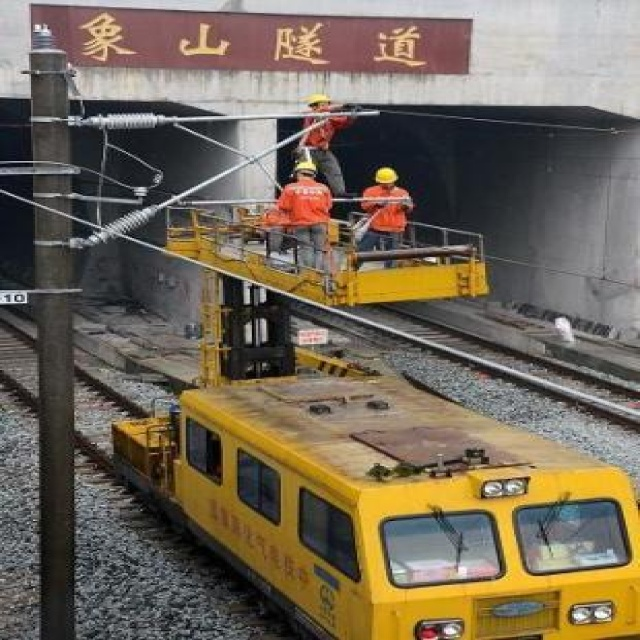Helmet: (368, 159, 405, 195)
Reflective vest: (280, 176, 331, 233), (366, 187, 409, 235)
